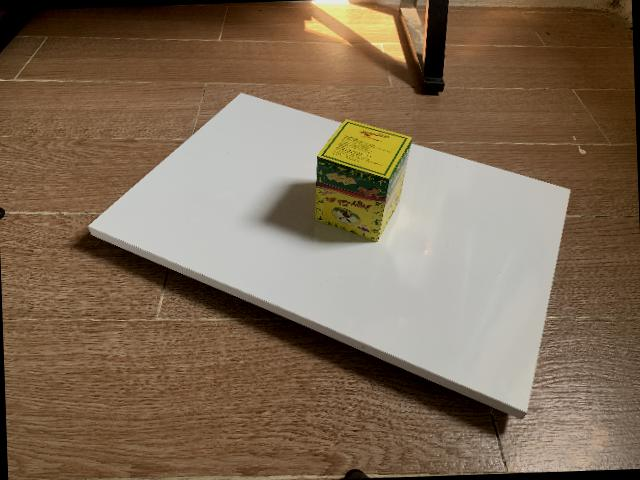luong_kho: (315, 119, 413, 243)
